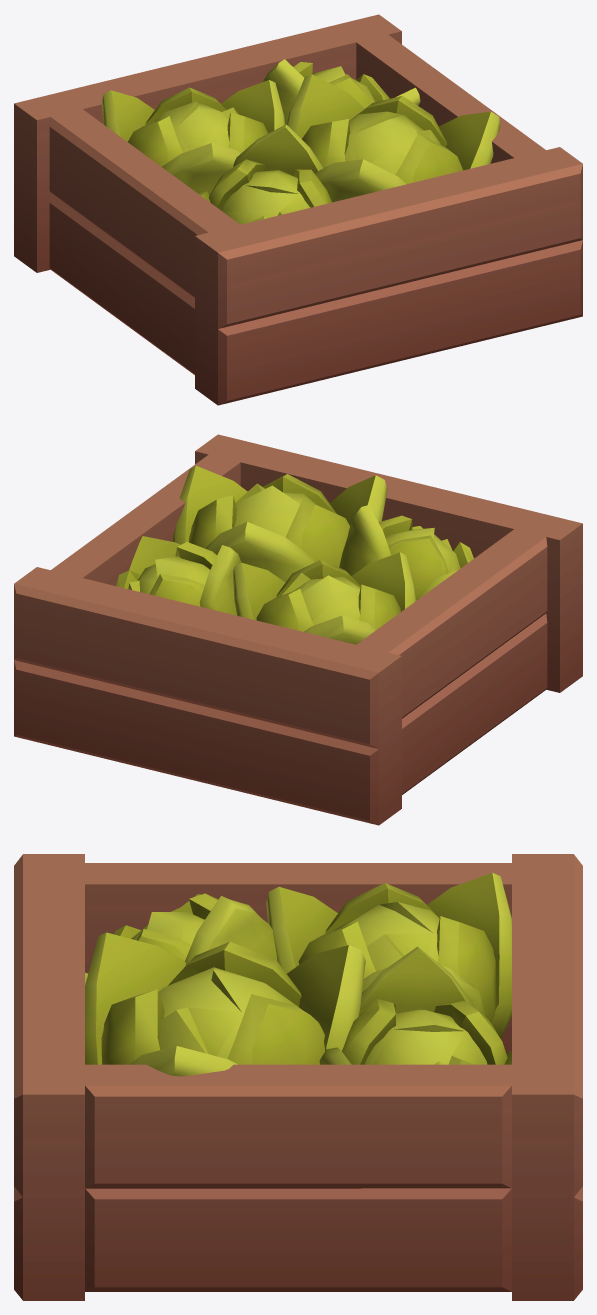
File: cabbage_counter.glb
3 views of the same model, one above another, from view 1: azimuth 30°, elevation 25°; view 2: azimuth 150°, elevation 25°; view 3: azimuth 270°, elevation 25° (orthographic). The views are drawn at different scales.
Visible parts, largest first — view 1: crate_lettuce; view 2: crate_lettuce; view 3: crate_lettuce.
Boxes of the visible parts, left/top/right/bottom form: crate_lettuce: left=14, top=14, right=582, bottom=405; crate_lettuce: left=14, top=434, right=582, bottom=825; crate_lettuce: left=14, top=854, right=582, bottom=1300.
Size of the model in its own units: 2 by 0.9981 by 2.
Materials: 1 (1 with a texture image).
